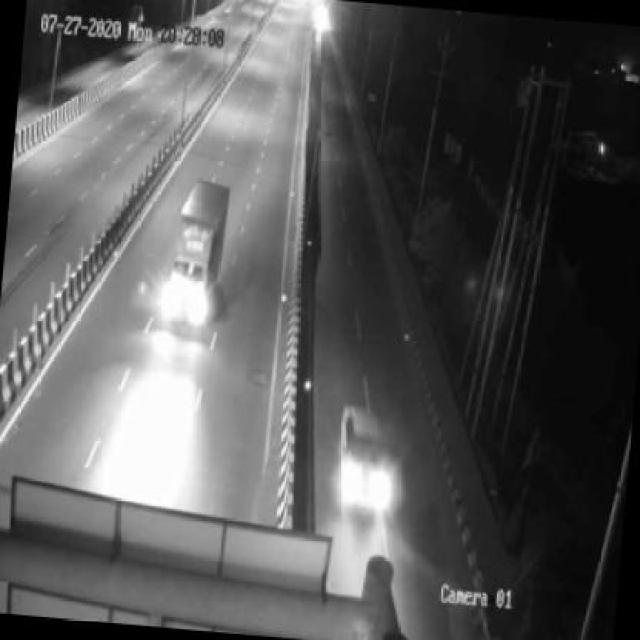car: (328, 397, 400, 508)
